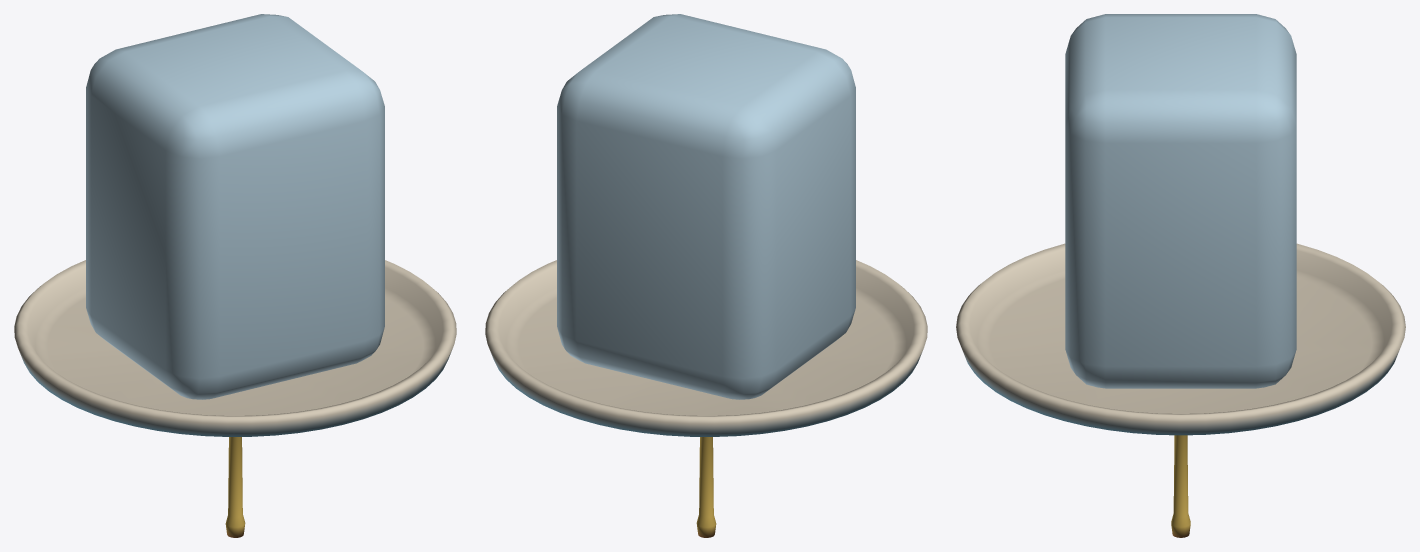
Rendered from icefire.glb.
The picture shows the model from 3 angles, left to right: view 1: azimuth 30°, elevation 25°; view 2: azimuth 150°, elevation 25°; view 3: azimuth 270°, elevation 25°; orthographic projection.
Visible parts, largest first — view 1: iceblock, dish, torch; view 2: iceblock, dish, torch; view 3: iceblock, dish, torch.
Boxes of the visible parts, x1,y1,x2,y2 form: iceblock: (86,14,384,399); dish: (14,260,456,436); torch: (225,437,245,537); iceblock: (557,14,855,399); dish: (485,260,927,436); torch: (696,437,716,537); iceblock: (1065,14,1296,388); dish: (956,243,1405,435); torch: (1171,435,1190,537).
Size of the model in its own units: 1.79 by 2.12 by 1.79.
